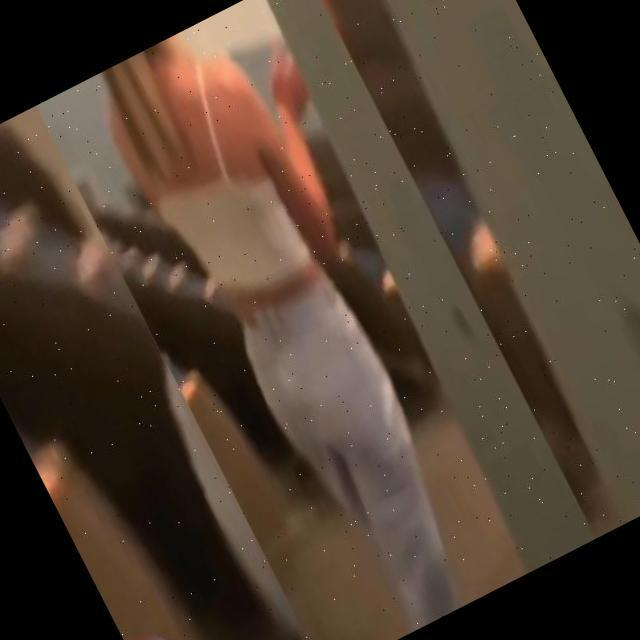person: (83, 0, 553, 640)
